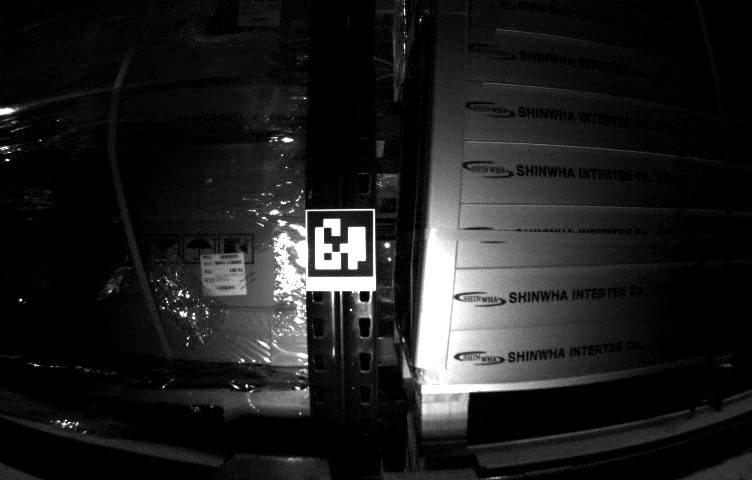True Barcode: (197, 251, 248, 295)
